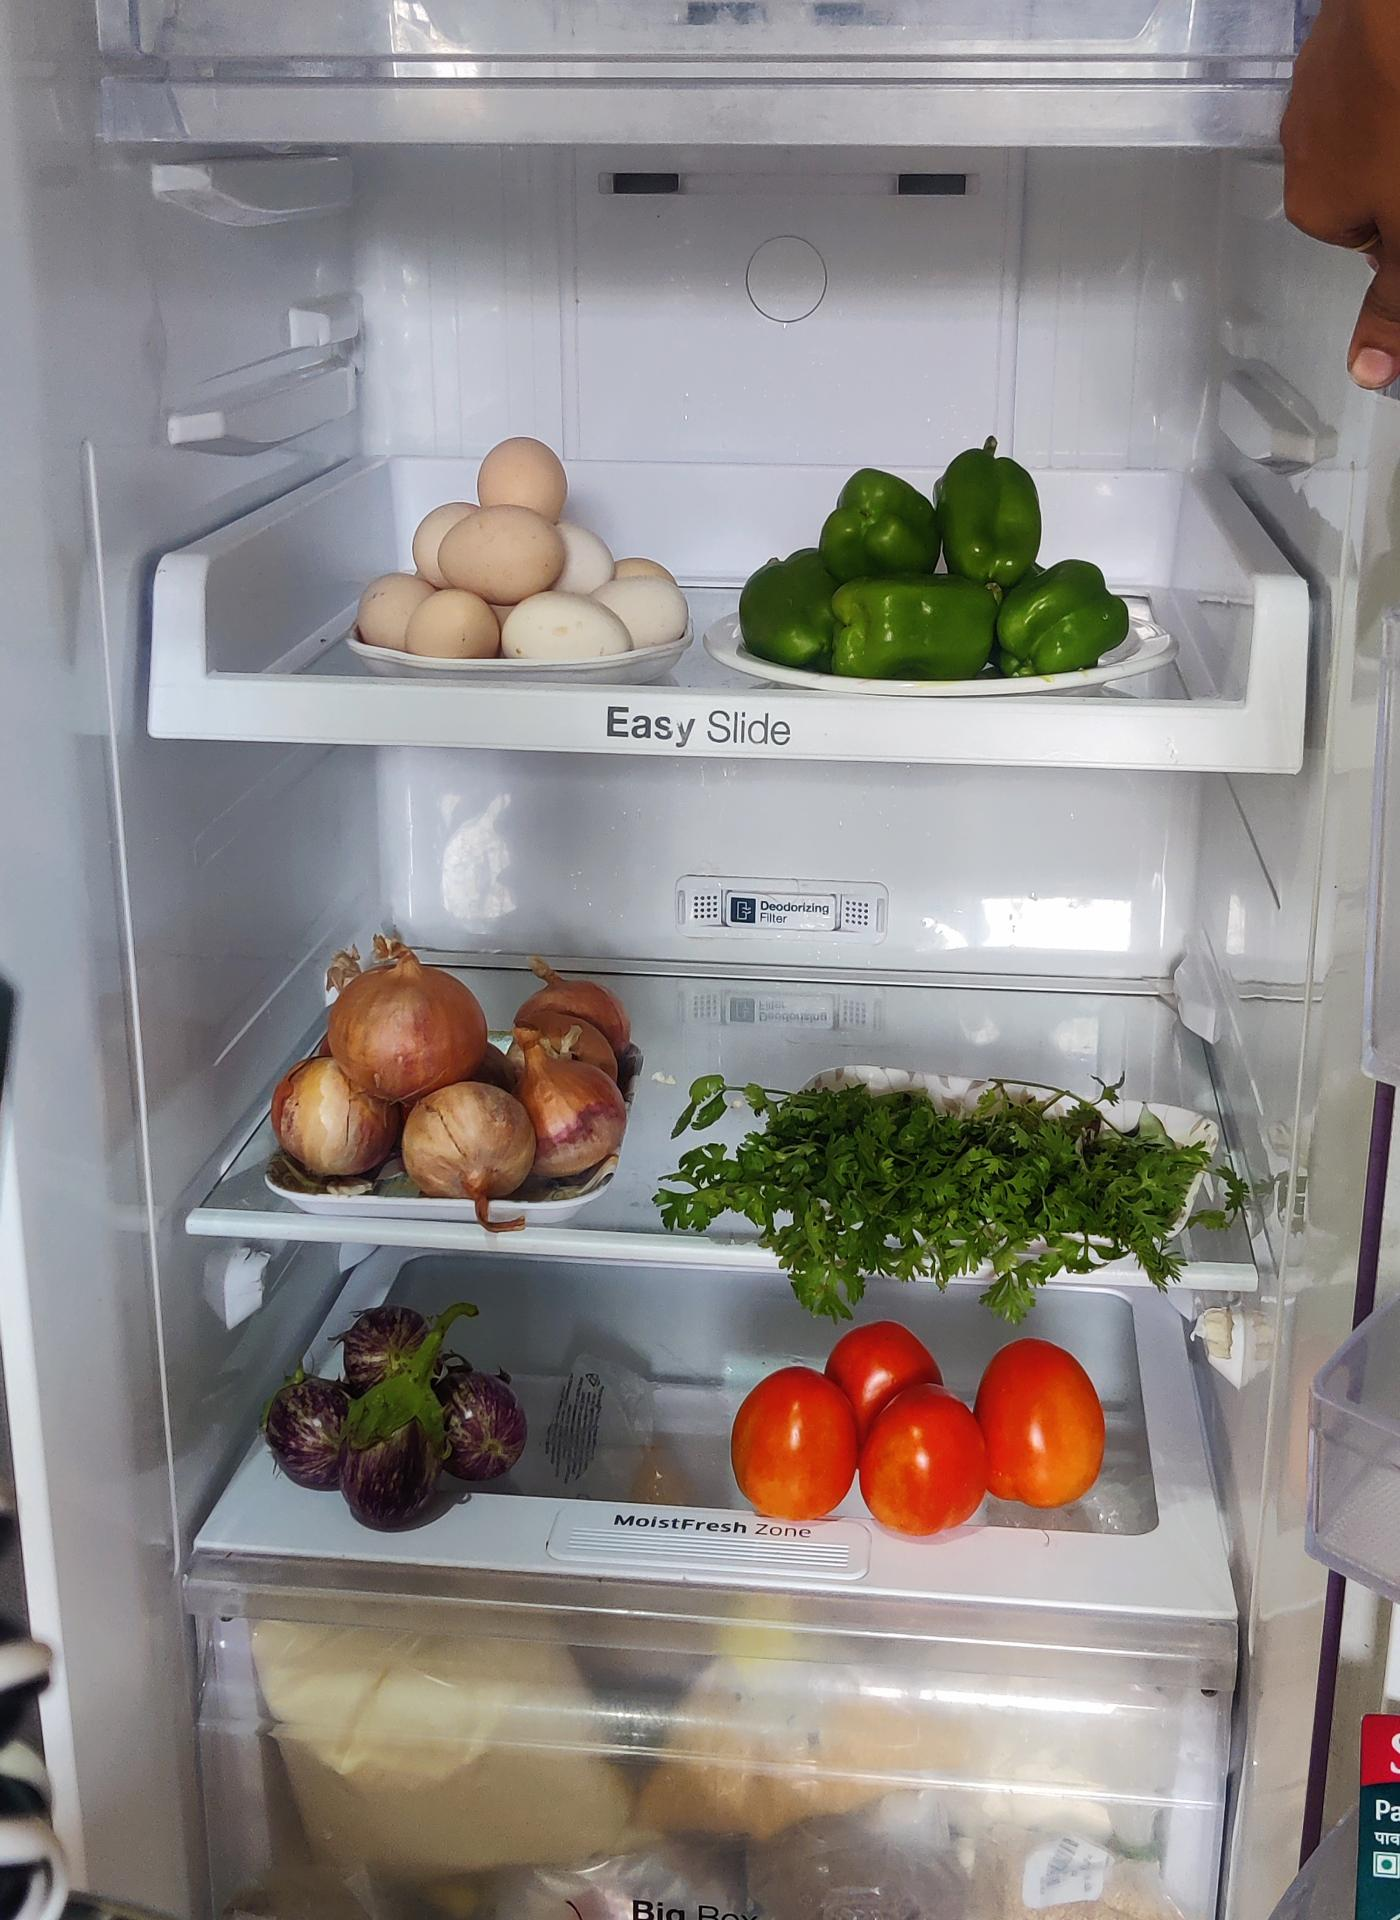capsicum: (740, 452, 1144, 686)
coriander: (678, 1084, 1214, 1312)
egg: (347, 429, 684, 663)
onion: (270, 933, 638, 1197), (258, 1310, 516, 1529)
tomato: (731, 1327, 1114, 1540)
